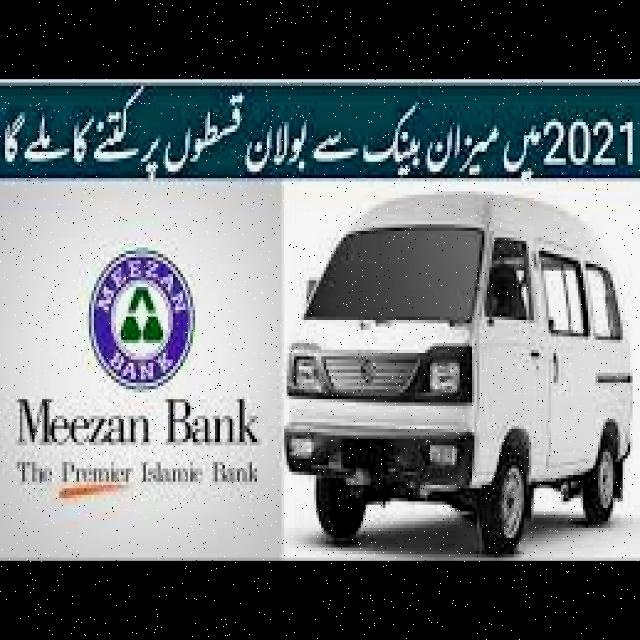Van: (289, 188, 630, 561)
